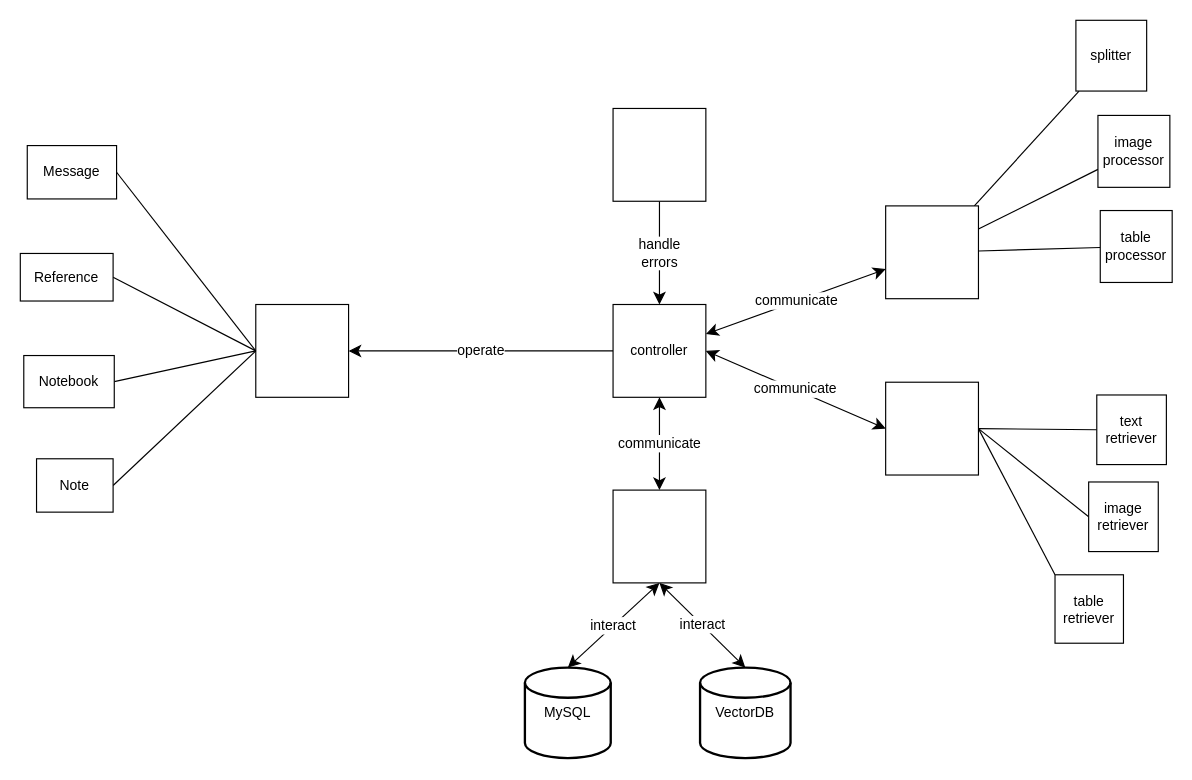
This 1192x780 diagram has some shape labels left out. Here are the shapes that lost their labels. From the top down, the centre of each, then its label:
the point at 659,154: exceptions
the point at 931,252: processor
the point at 302,350: kernel
the point at 931,428: retriever
the point at 659,536: repository
